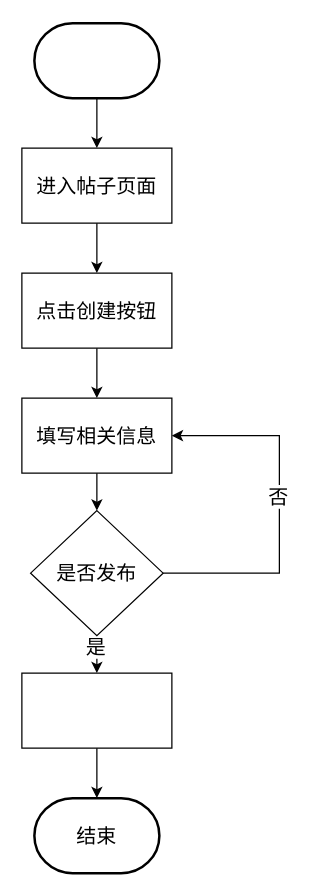
The diagram is 311 pixels wide and 895 high, and some of its shapes have lost their labels. Each missing label, with the centre of its shape:
"发布成功" belongs at pixel 96 710.
"开始" belongs at pixel 96 60.
